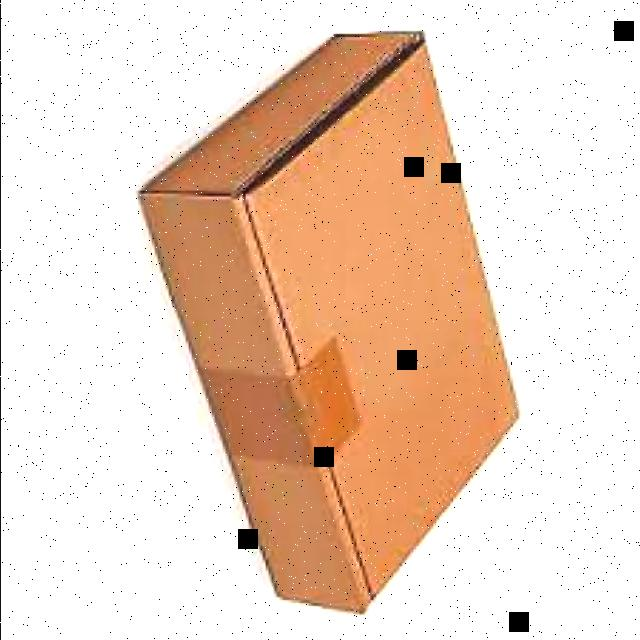cardboard_box: (134, 21, 518, 614)
